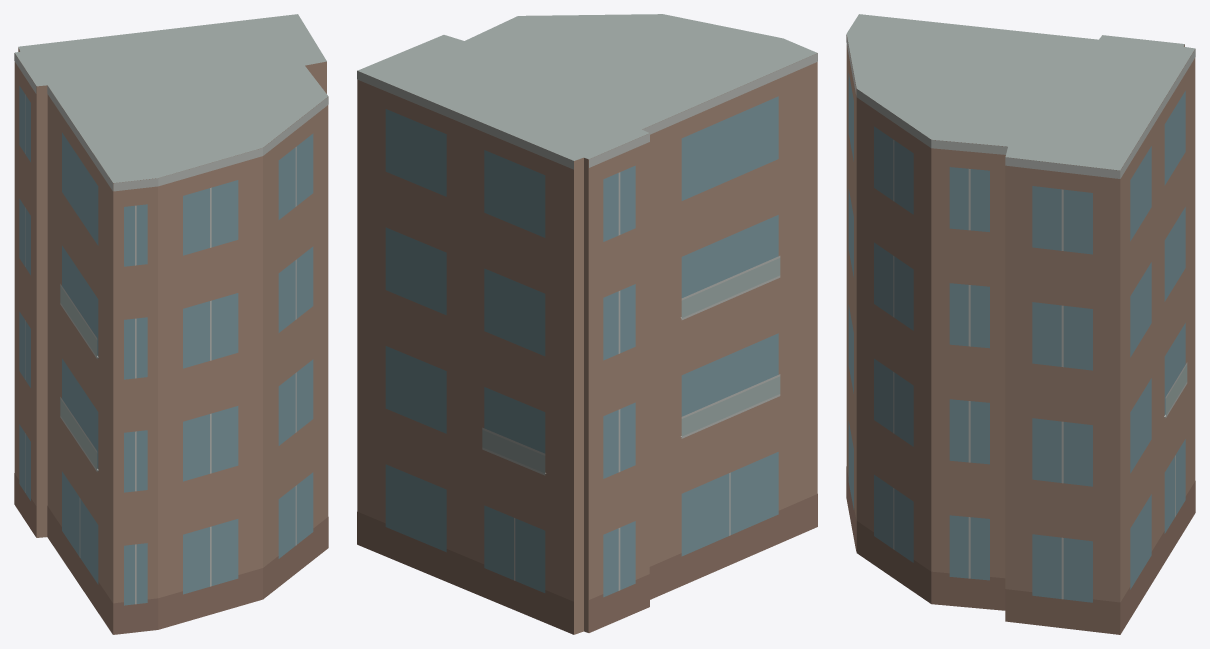
The model's file is survey-upis-32897245.glb.
3 views of the same model, side by side, from view 1: azimuth 30°, elevation 25°; view 2: azimuth 150°, elevation 25°; view 3: azimuth 270°, elevation 25° (orthographic). The views are drawn at different scales.
Visible parts, largest first — view 1: survey-upis-32897245.tmp; view 2: survey-upis-32897245.tmp; view 3: survey-upis-32897245.tmp.
Part boxes in pixels (box(x1,y1,x2,y2)): survey-upis-32897245.tmp: box(14, 14, 328, 634); survey-upis-32897245.tmp: box(357, 14, 817, 634); survey-upis-32897245.tmp: box(846, 14, 1195, 634).
Bounding box in the file's own units: 9.55 × 13.2 × 9.
